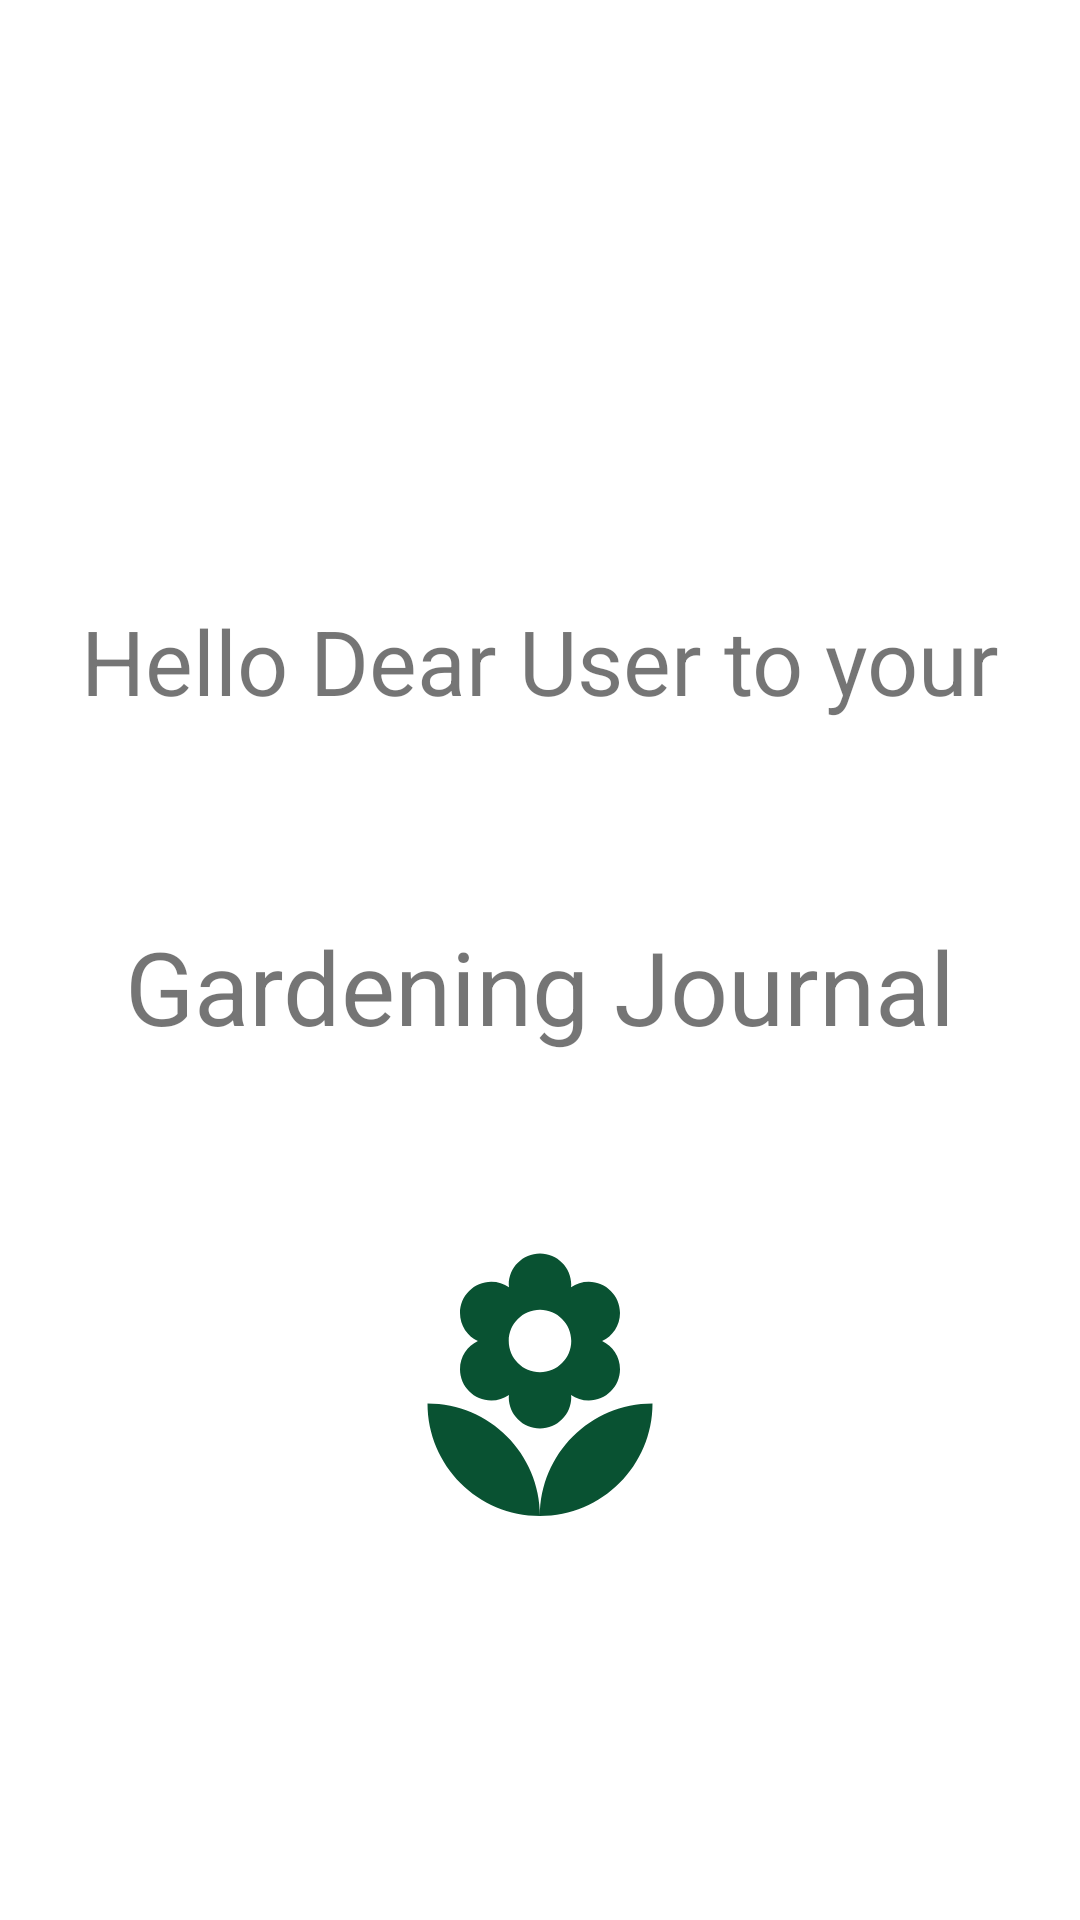

Icon bounding boxes for this 1080 × 1920 phone screenshot, format (x1, y1, x2, y2):
local florist: (427, 1253, 653, 1516)
